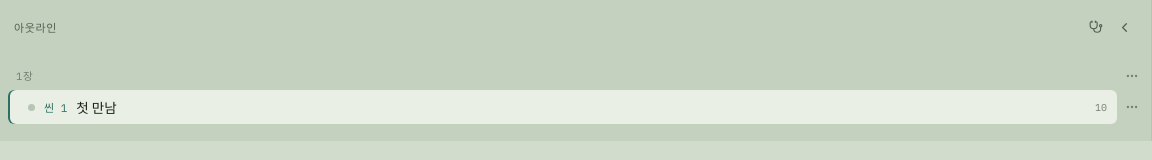
Test: OutlinePanel › cancels inline rename with Escape
Right-click the button "씬 1 첫 만남 10" at (97, 110), box 8,90 -> 1117,124
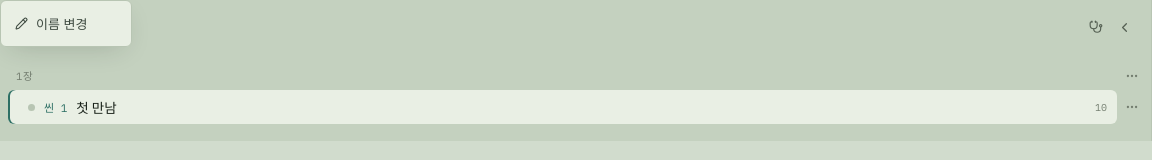
Click the menu item "이름 변경" at (66, 24), box 6,6 -> 126,41
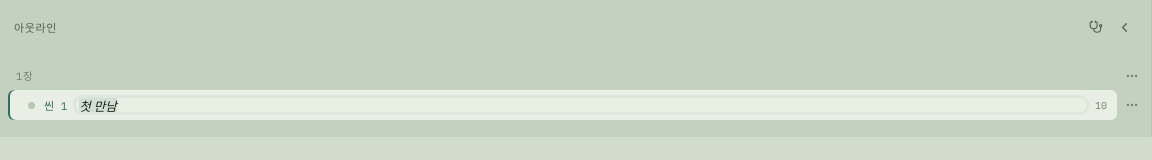
Replace the text in the field named "표시 제목" with "취소할 제목" at (581, 105), box 76,98 -> 1086,112
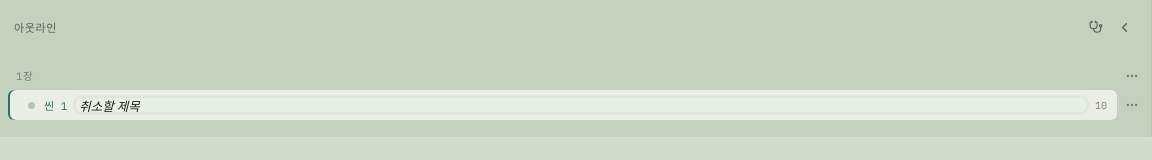
Press Escape
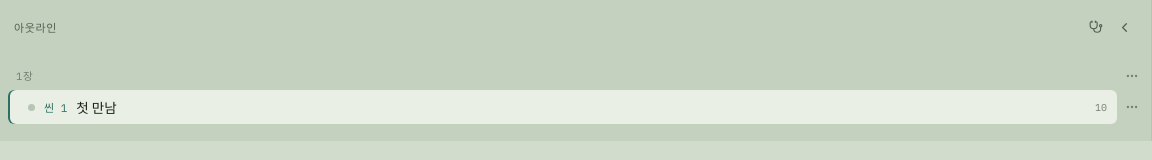
Expected: the text "첫 만남" is shown, 76,103 -> 117,117
